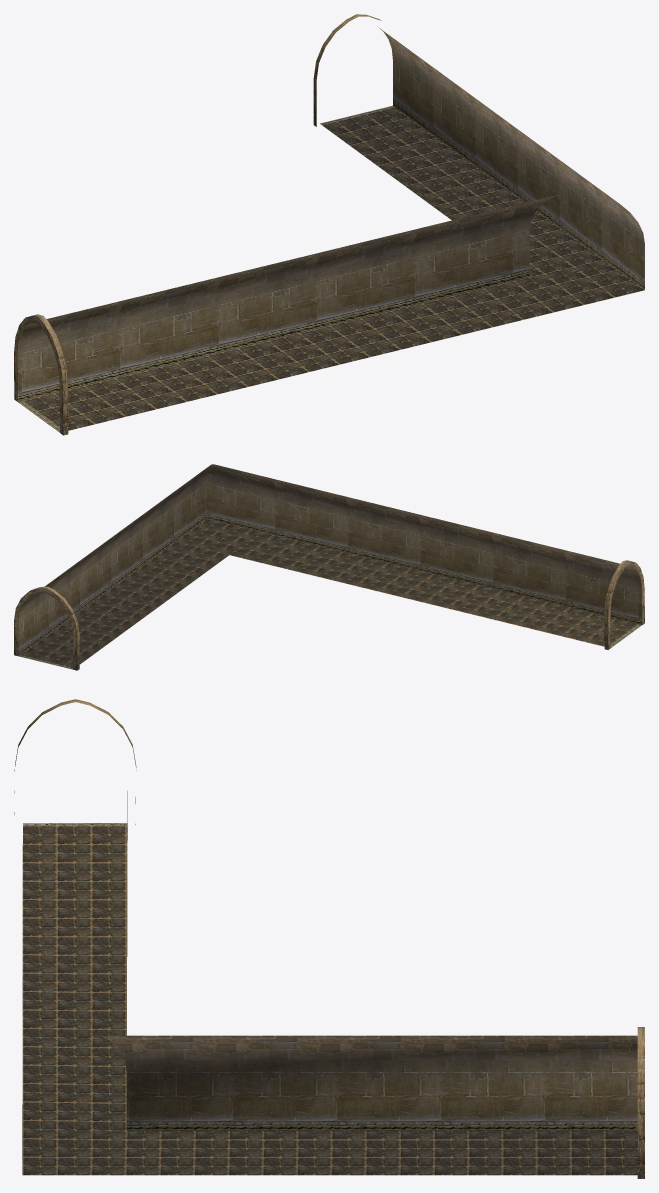
The model's file is M7Z1_Tunnel3.glb.
3 views of the same model, one above another, from view 1: azimuth 30°, elevation 25°; view 2: azimuth 150°, elevation 25°; view 3: azimuth 270°, elevation 25° (orthographic). The views are drawn at different scales.
Parts seen in each view (by area): view 1: M7Z1_TUNNEL3; view 2: M7Z1_TUNNEL3; view 3: M7Z1_TUNNEL3.
Part boxes in pixels (x1,y1,x2,y2): M7Z1_TUNNEL3: [14, 14, 644, 435]; M7Z1_TUNNEL3: [14, 464, 644, 670]; M7Z1_TUNNEL3: [14, 699, 644, 1178].
Bounding box in the file's own units: 23.88 × 3.88 × 17.89.
4 materials, 4 textured.
